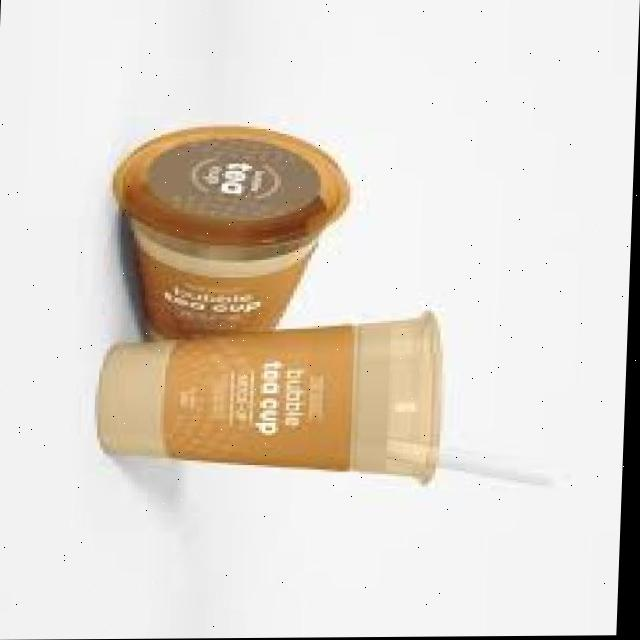cup: (101, 317, 444, 484), (116, 128, 350, 333)
